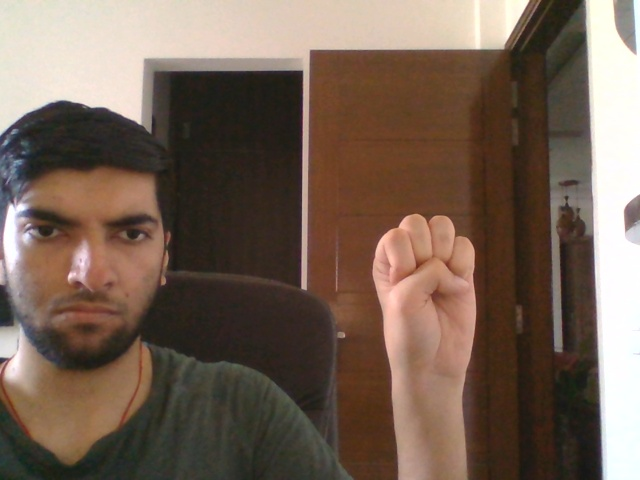LetterS: (369, 210, 483, 380)
